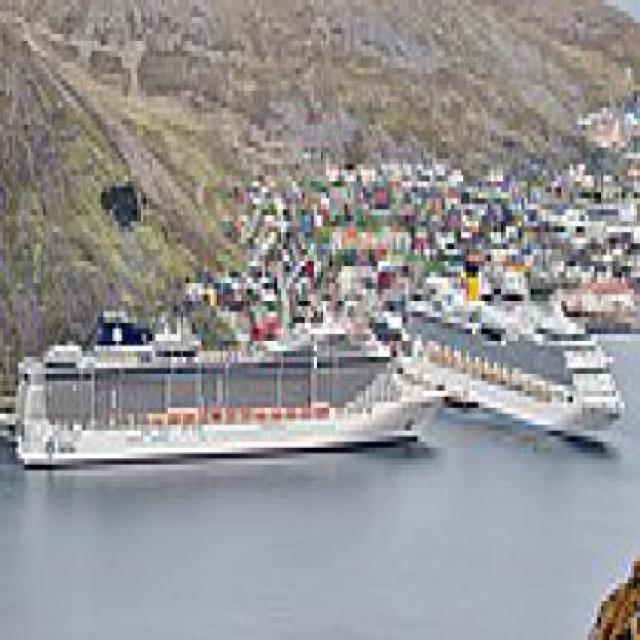cruise: (13, 284, 453, 476), (394, 267, 636, 460)
